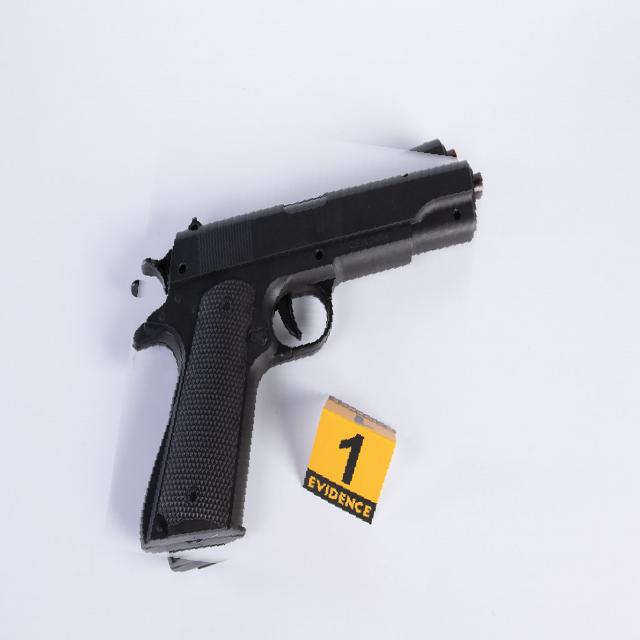gun: (117, 127, 473, 583)
